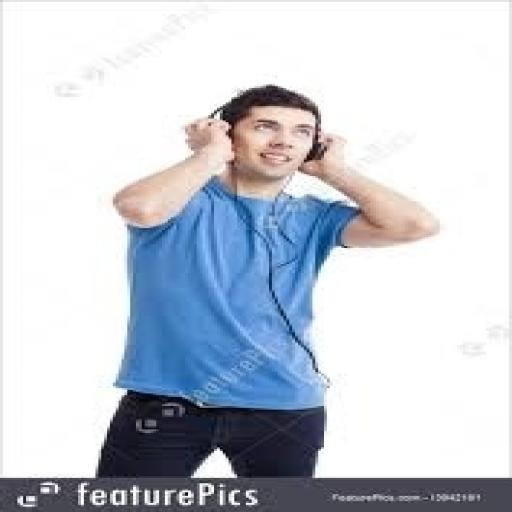listening_to_music: (92, 82, 446, 480)
